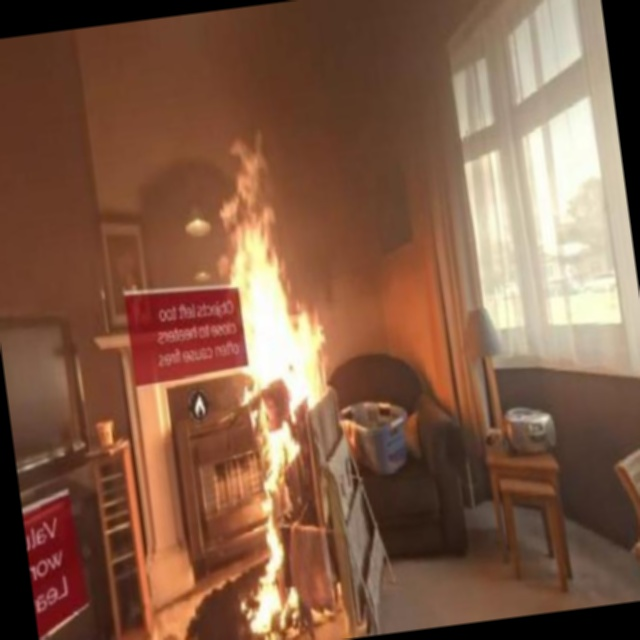fire: (217, 140, 315, 397)
